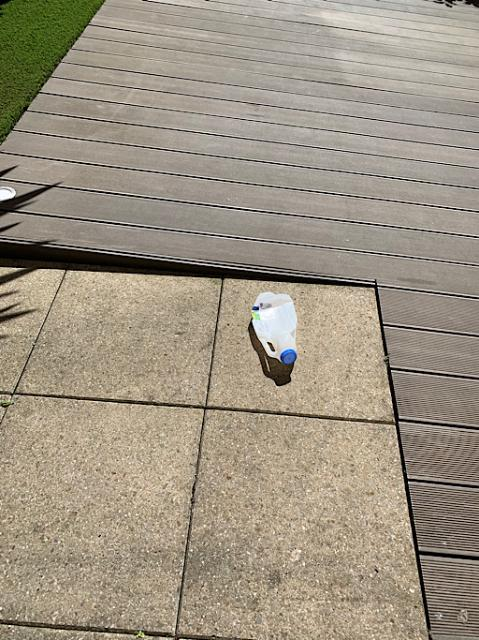plastic: (251, 291, 295, 363)
